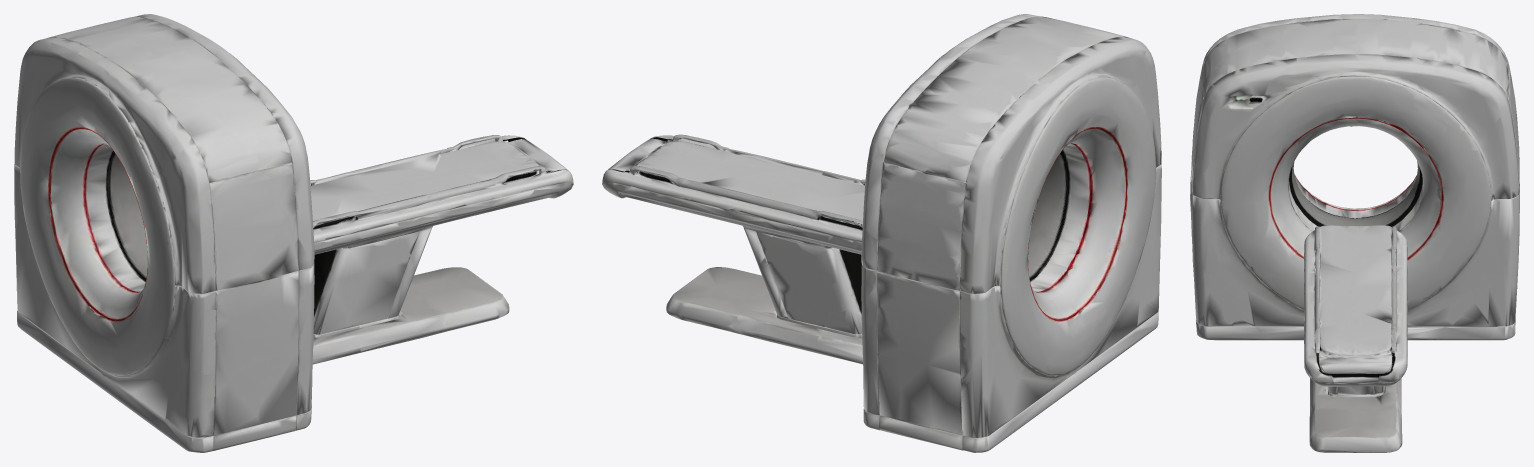
Rendered from tomografo.glb.
3 renders of one model, left to right at view 1: azimuth 30°, elevation 25°; view 2: azimuth 150°, elevation 25°; view 3: azimuth 270°, elevation 25°, orthographic. The views are drawn at different scales.
Parts seen in each view (by area): view 1: tripo_node_1c4c9efb-e601-4d93-9ead-d739bd2e457d; view 2: tripo_node_1c4c9efb-e601-4d93-9ead-d739bd2e457d; view 3: tripo_node_1c4c9efb-e601-4d93-9ead-d739bd2e457d.
Part boxes in pixels (x1,y1,x2,y2): tripo_node_1c4c9efb-e601-4d93-9ead-d739bd2e457d: (14, 14, 573, 452); tripo_node_1c4c9efb-e601-4d93-9ead-d739bd2e457d: (602, 14, 1161, 452); tripo_node_1c4c9efb-e601-4d93-9ead-d739bd2e457d: (1190, 14, 1519, 452).
Size of the model in its own units: 2.24 by 1.5 by 1.6.
1 material, 1 textured.
